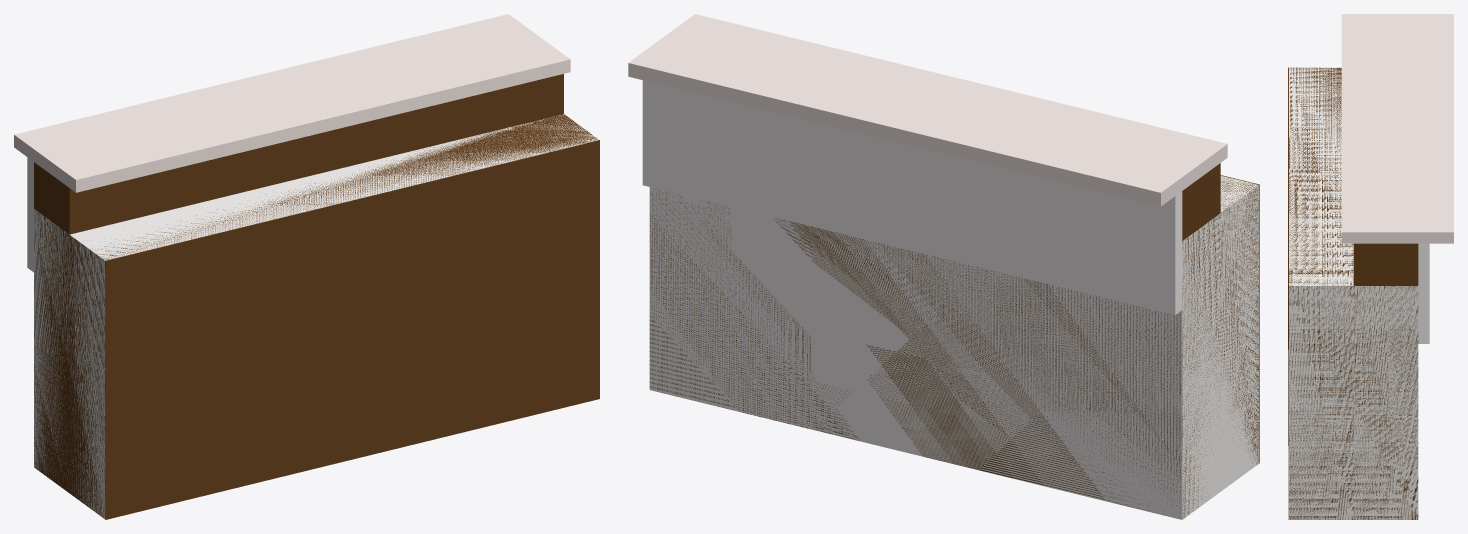
Rendered from ban_le_tan_2.fbx.
3 renders of one model, left to right at view 1: azimuth 30°, elevation 25°; view 2: azimuth 150°, elevation 25°; view 3: azimuth 270°, elevation 25°, orthographic. The views are drawn at different scales.
Visible parts, largest first — view 1: Cube; view 2: Cube; view 3: Cube.
Boxes of the visible parts, x1,y1,x2,y2 form: Cube: (14, 14, 599, 519); Cube: (628, 14, 1259, 519); Cube: (1288, 14, 1453, 519).
Bounding box in the file's own units: 1200 × 738 × 386.
